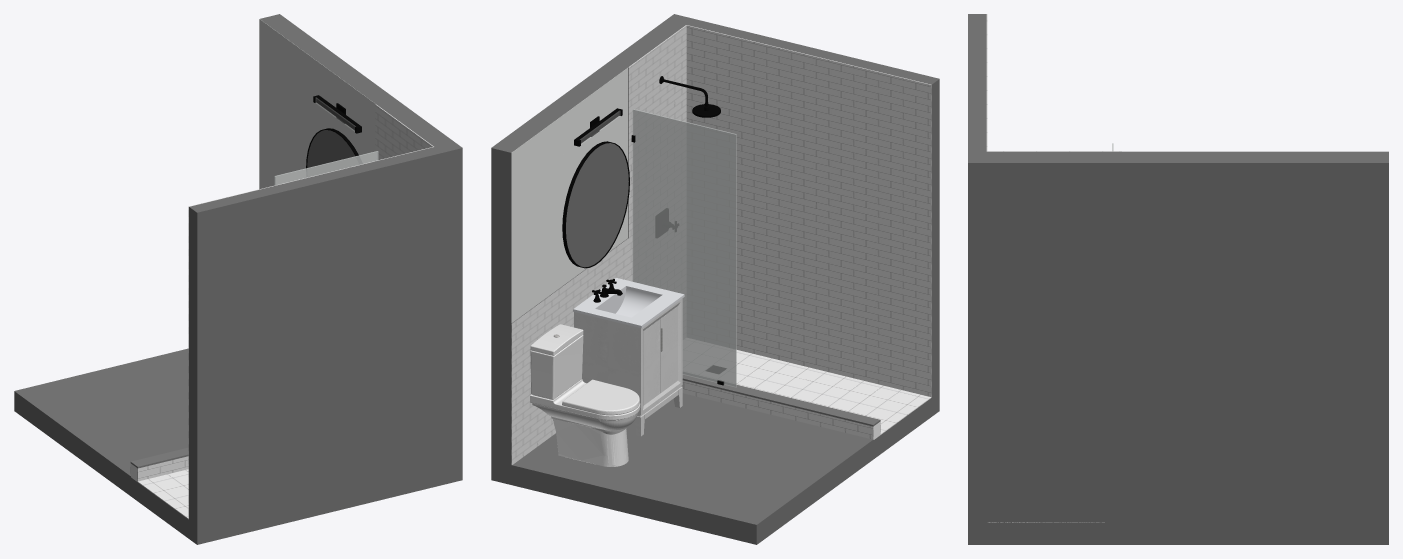
3 views of the same model, side by side, from view 1: azimuth 30°, elevation 25°; view 2: azimuth 150°, elevation 25°; view 3: azimuth 270°, elevation 25° (orthographic). The views are drawn at different scales.
Visible parts, largest first — view 1: 3DGeom-73, 3DGeom-36, 3DGeom-68, 3DGeom-74, 3DGeom-37, 3DGeom-60, 3DGeom-35, 3DGeom-63, 3DGeom-39, 3DGeom-67, 3DGeom-62; view 2: 3DGeom-62, 3DGeom-36, 3DGeom-39, 3DGeom-68, 3DGeom-63, 3DGeom-74, 3DGeom-37, 3DGeom-32, 3DGeom-35, 3DGeom-64, 3DGeom-60, 3DGeom-73 (+10 smaller); view 3: 3DGeom-74, 3DGeom-37, 3DGeom-73.
Part boxes in pixels (left/top/right/bottom): 3DGeom-73: left=189, top=147, right=442, bottom=525; 3DGeom-36: left=14, top=348, right=188, bottom=476; 3DGeom-68: left=259, top=19, right=375, bottom=189; 3DGeom-74: left=260, top=14, right=462, bottom=465; 3DGeom-37: left=14, top=392, right=462, bottom=544; 3DGeom-60: left=307, top=130, right=358, bottom=176; 3DGeom-35: left=137, top=469, right=188, bottom=519; 3DGeom-63: left=383, top=110, right=433, bottom=158; 3DGeom-39: left=274, top=151, right=378, bottom=185; 3DGeom-67: left=137, top=456, right=188, bottom=481; 3DGeom-62: left=188, top=146, right=433, bottom=519; 3DGeom-62: left=686, top=25, right=931, bottom=397; 3DGeom-36: left=511, top=393, right=873, bottom=525; 3DGeom-39: left=632, top=109, right=736, bottom=387; 3DGeom-68: left=511, top=68, right=627, bottom=322; 3DGeom-63: left=636, top=25, right=686, bottom=339; 3DGeom-74: left=491, top=14, right=693, bottom=465; 3DGeom-37: left=491, top=392, right=939, bottom=544; 3DGeom-32: left=574, top=298, right=682, bottom=436; 3DGeom-35: left=683, top=338, right=931, bottom=435; 3DGeom-64: left=511, top=238, right=628, bottom=464; 3DGeom-60: left=566, top=143, right=628, bottom=267; 3DGeom-73: left=686, top=19, right=939, bottom=397; 3DGeom-74: left=968, top=151, right=1388, bottom=522; 3DGeom-37: left=968, top=523, right=1388, bottom=544; 3DGeom-73: left=968, top=14, right=986, bottom=151.
Size of the model in its own units: 2.17 by 2.59 by 2.59.
